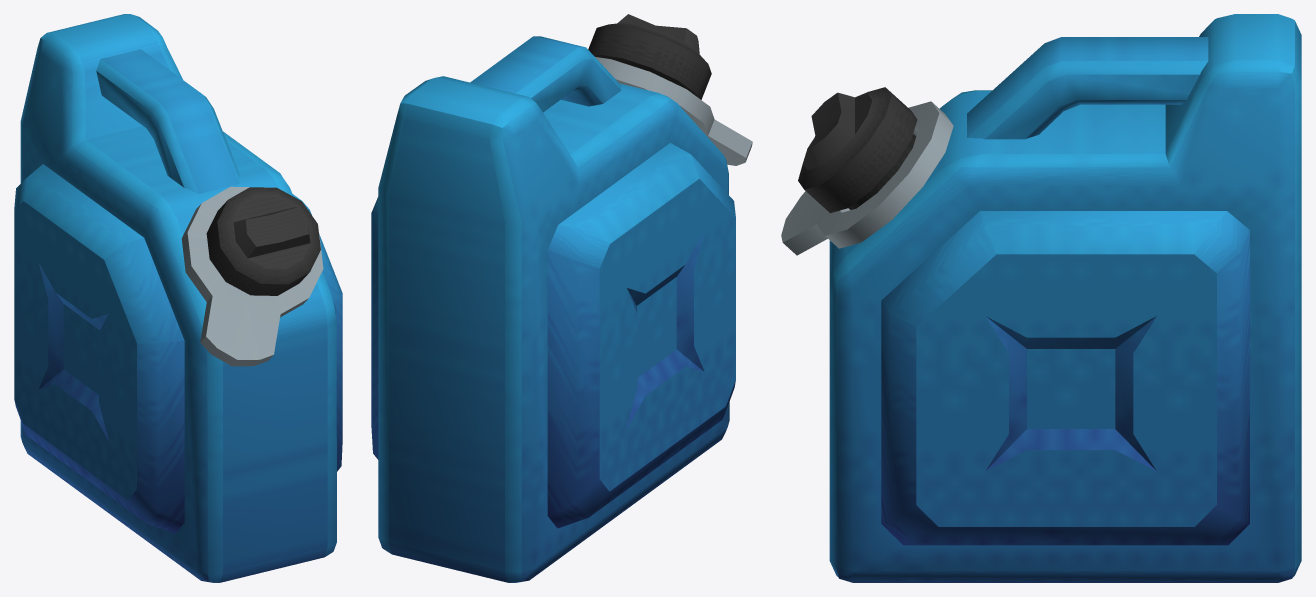
File: Fuel_C_Jerrycan.gltf
3 renders of one model, left to right at view 1: azimuth 30°, elevation 25°; view 2: azimuth 150°, elevation 25°; view 3: azimuth 270°, elevation 25°, orthographic. The views are drawn at different scales.
Parts seen in each view (by area): view 1: Fuel_C_Jerrycan; view 2: Fuel_C_Jerrycan; view 3: Fuel_C_Jerrycan.
Part boxes in pixels (<box>): Fuel_C_Jerrycan: <box>14,14,342,582</box>; Fuel_C_Jerrycan: <box>371,14,752,582</box>; Fuel_C_Jerrycan: <box>781,14,1301,582</box>.
Bounding box in the file's own units: 0.4 × 0.78 × 0.7165.
Materials: 1 (1 with a texture image).
